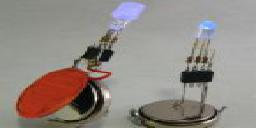LED: (196, 19, 219, 40)
